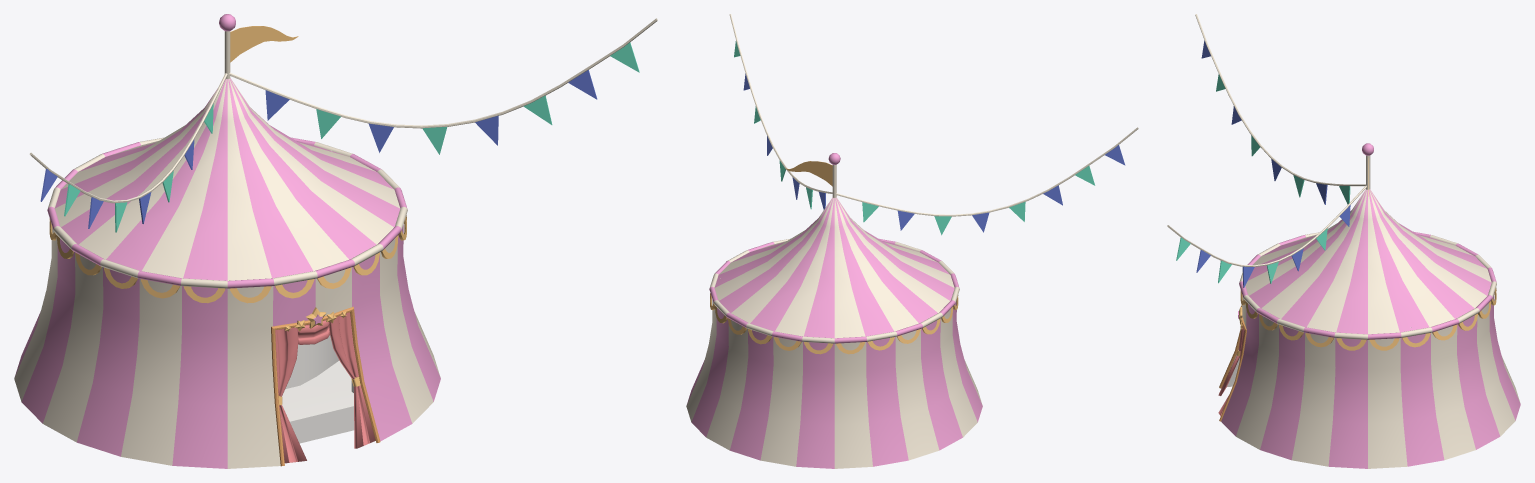
File: Circus_Tent_01.FBX
3 renders of one model, left to right at view 1: azimuth 30°, elevation 25°; view 2: azimuth 150°, elevation 25°; view 3: azimuth 270°, elevation 25°, orthographic. The views are drawn at different scales.
Parts seen in each view (by area): view 1: Circus_Tent_01, Circus_Tent_Garland_B_01, Circus_Tent_Garland_A_01; view 2: Circus_Tent_01, Circus_Tent_Garland_A_01, Circus_Tent_Garland_B_01; view 3: Circus_Tent_01, Circus_Tent_Garland_B_01, Circus_Tent_Garland_A_01.
Part boxes in pixels (x1,y1,x2,y2): Circus_Tent_01: [14, 14, 440, 468]; Circus_Tent_Garland_B_01: [229, 18, 657, 154]; Circus_Tent_Garland_A_01: [29, 73, 227, 232]; Circus_Tent_01: [686, 153, 982, 468]; Circus_Tent_Garland_A_01: [836, 127, 1138, 235]; Circus_Tent_Garland_B_01: [729, 14, 832, 209]; Circus_Tent_01: [1218, 143, 1520, 468]; Circus_Tent_Garland_B_01: [1167, 185, 1366, 287]; Circus_Tent_Garland_A_01: [1195, 14, 1365, 204].
Size of the model in its own units: 23.92 by 14.76 by 16.83.
